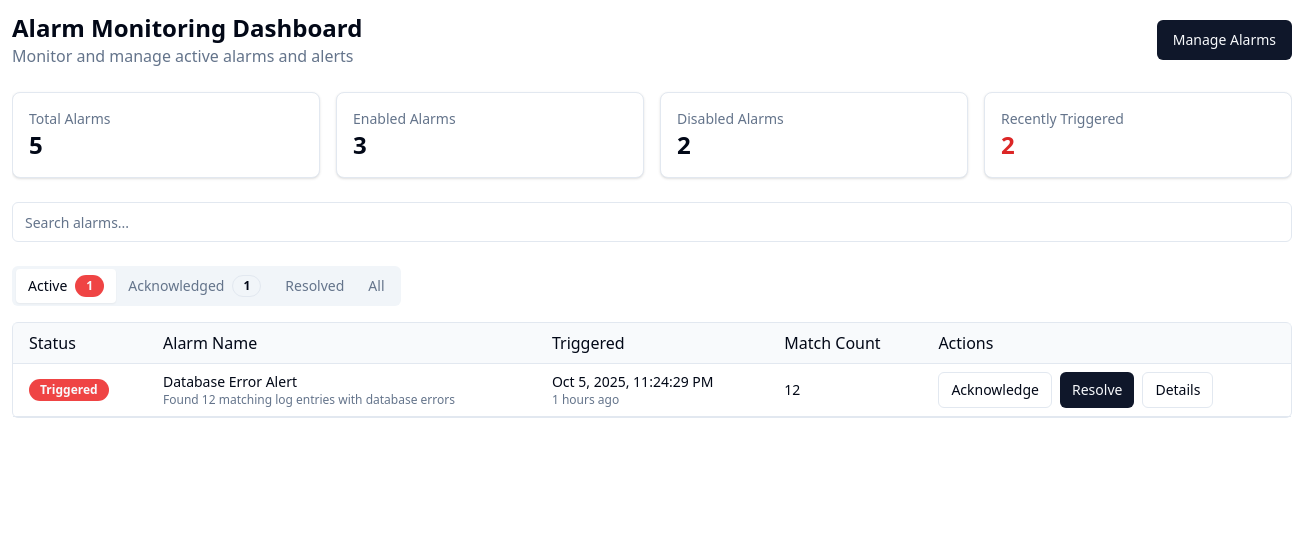
Test: AlarmMonitoringPage › filters events based on search query
Expected: the text "Database Error Alert" is shown, [163,372,297,391]
Note: Click on "all" tab to show all events
Click the tab "All" at {"x": 376, "y": 286}, box [356,270,396,302]
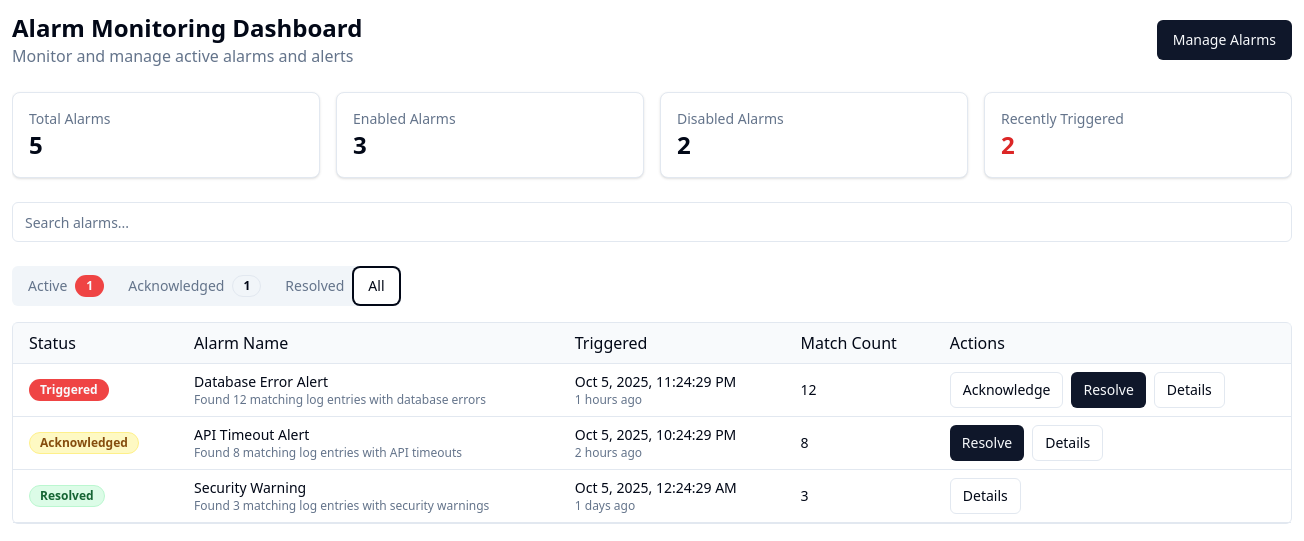
Note: Enter search query
Type "database" into the field with placeholder "Search alarms..." at {"x": 652, "y": 222}, box [12,202,1292,242]
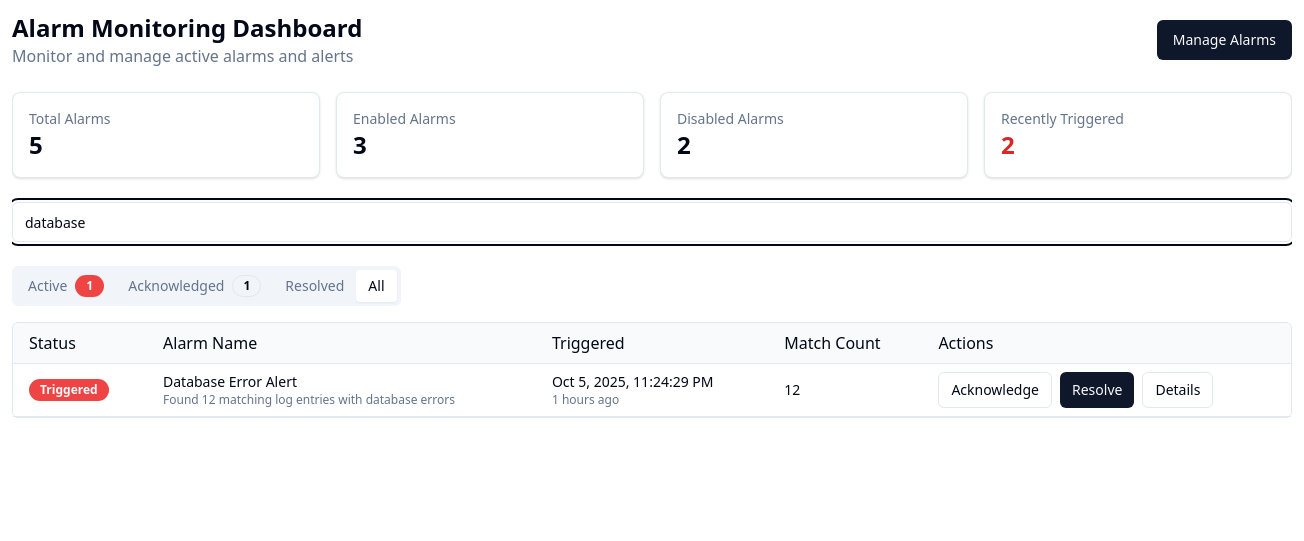
Expected: the text "Database Error Alert" is shown, [163,372,297,391]
Now the text "API Timeout Alert" is gone
Now the text "Security Warning" is gone
